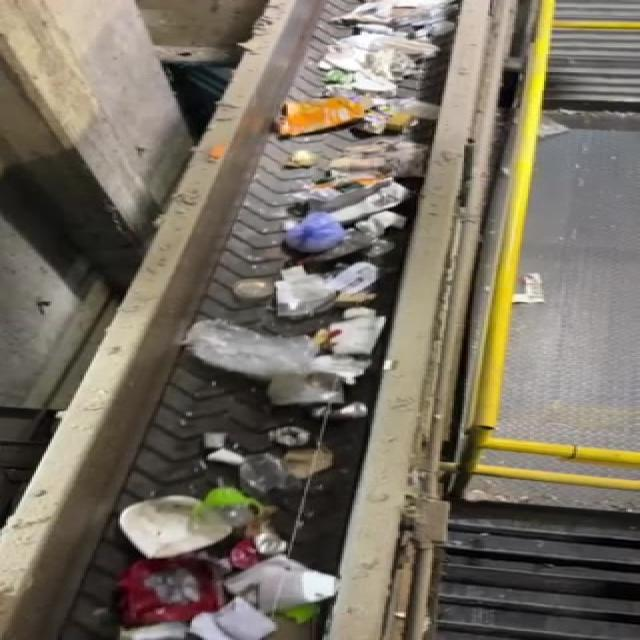pet: (199, 482, 265, 533)
ps: (120, 493, 240, 564)
